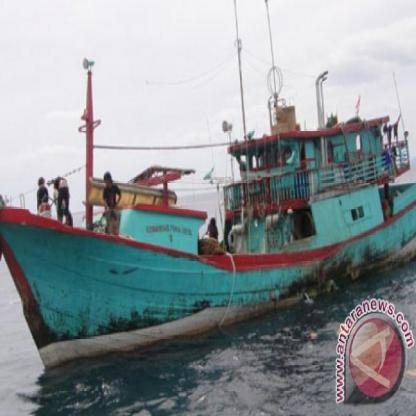fishing boat: (1, 115, 416, 299)
